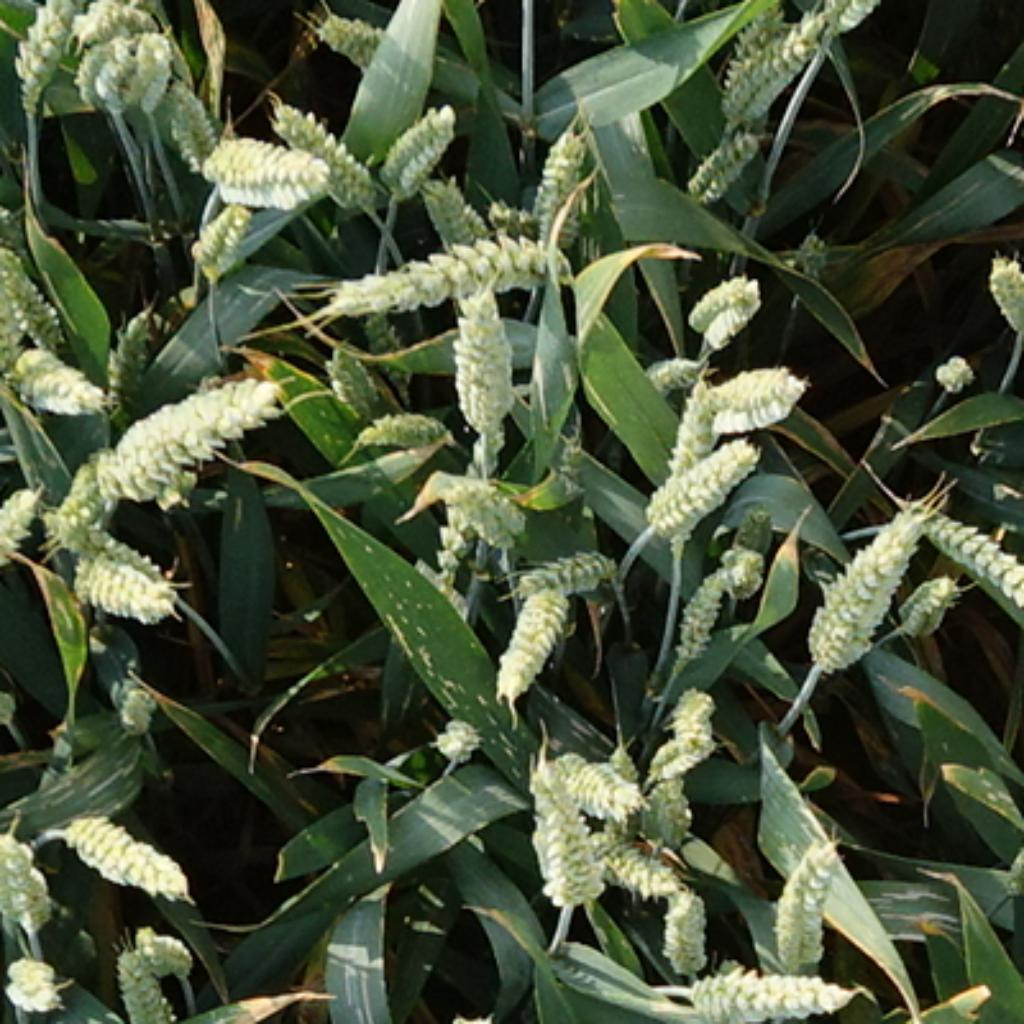0-0: (109, 360, 309, 514), (798, 496, 924, 673), (317, 238, 581, 320), (911, 488, 1024, 619), (519, 762, 614, 908), (709, 9, 837, 116), (58, 808, 199, 903), (638, 435, 758, 545), (486, 570, 578, 711), (673, 954, 857, 1024), (263, 89, 378, 194), (445, 289, 527, 435), (768, 824, 849, 962), (199, 130, 337, 207), (435, 417, 504, 565), (529, 737, 642, 819), (686, 107, 783, 202), (376, 99, 460, 197), (527, 122, 593, 245), (70, 548, 183, 618), (5, 335, 104, 414), (2, 227, 69, 343), (43, 448, 120, 547), (665, 374, 709, 546), (708, 361, 811, 433), (10, 2, 76, 110), (445, 481, 535, 558), (668, 560, 734, 665), (512, 540, 624, 601), (686, 271, 768, 350), (104, 302, 168, 396), (158, 81, 227, 166), (593, 829, 680, 896), (189, 202, 261, 279), (112, 942, 179, 1024), (412, 168, 483, 240), (655, 880, 714, 965), (2, 829, 53, 926), (309, 5, 391, 64), (61, 2, 176, 43), (896, 560, 960, 632), (76, 40, 140, 110), (355, 399, 450, 445), (2, 944, 66, 1011), (363, 314, 417, 391), (128, 924, 194, 983), (128, 33, 176, 112), (980, 250, 1024, 335), (640, 765, 693, 834), (104, 665, 161, 729), (488, 194, 547, 253), (2, 476, 46, 555), (665, 688, 724, 744), (719, 547, 773, 604), (430, 714, 486, 768), (652, 729, 716, 775), (731, 9, 785, 63), (640, 345, 704, 389), (734, 504, 778, 568), (785, 222, 839, 273), (931, 353, 980, 394), (821, 2, 878, 35)
